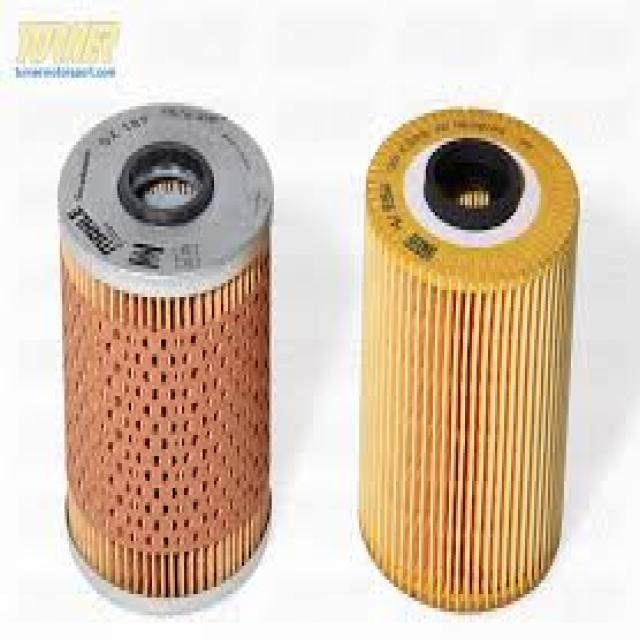oil_filter: (52, 97, 276, 620), (358, 105, 581, 617)
